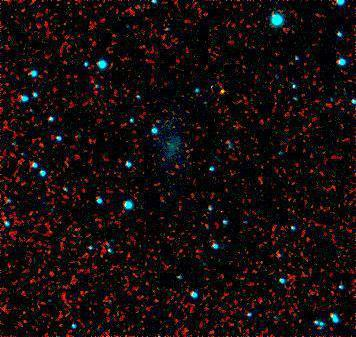star: (209, 79, 239, 109)
